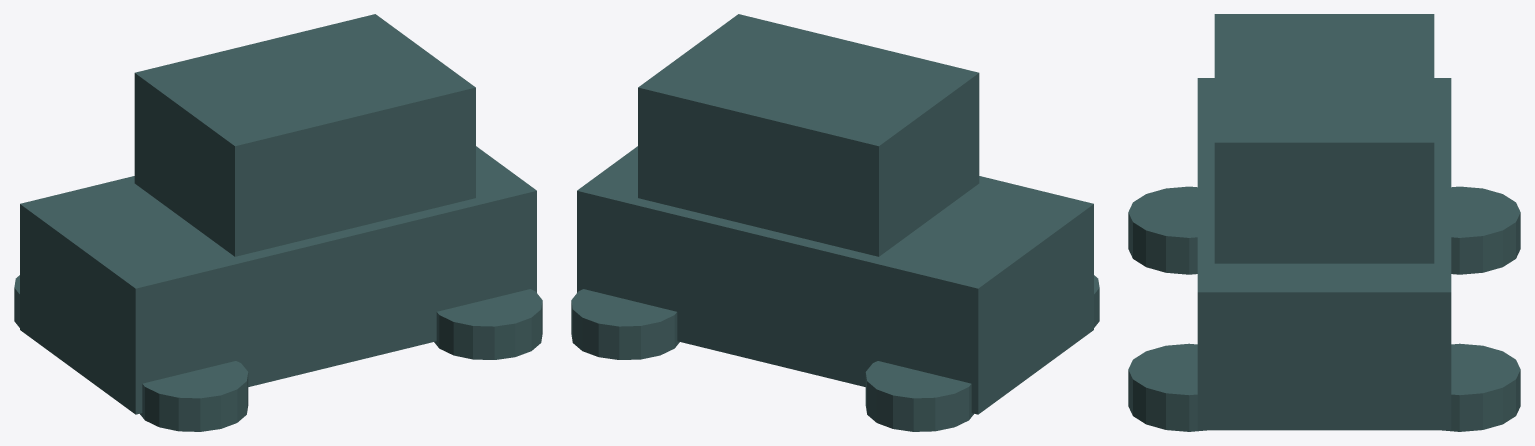
The model's file is nature_160.glb.
3 renders of one model, left to right at view 1: azimuth 30°, elevation 25°; view 2: azimuth 150°, elevation 25°; view 3: azimuth 270°, elevation 25°, orthographic. The views are drawn at different scales.
Parts seen in each view (by area): view 1: world; view 2: world; view 3: world.
Boxes of the visible parts, left/top/right/bottom form: world: left=14, top=14, right=542, bottom=431; world: left=571, top=14, right=1099, bottom=431; world: left=1128, top=14, right=1520, bottom=431.
Size of the model in its own units: 1.5 by 0.86 by 1.16.
